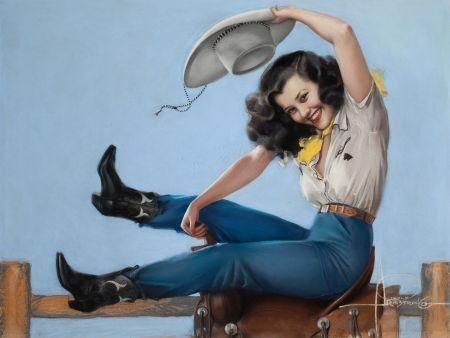person: (48, 38, 393, 305)
